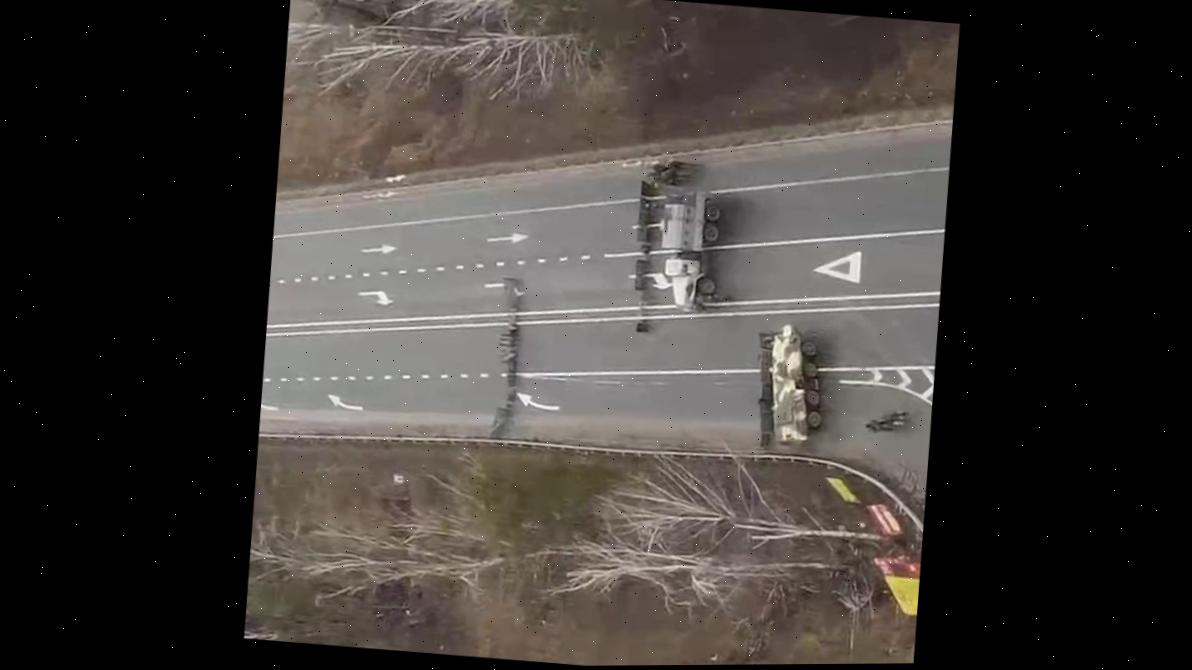person: (695, 288, 736, 308), (658, 155, 699, 175), (877, 408, 913, 430), (861, 418, 896, 437), (650, 175, 688, 192), (641, 195, 663, 212)
tank: (653, 188, 723, 315), (762, 322, 828, 446)
